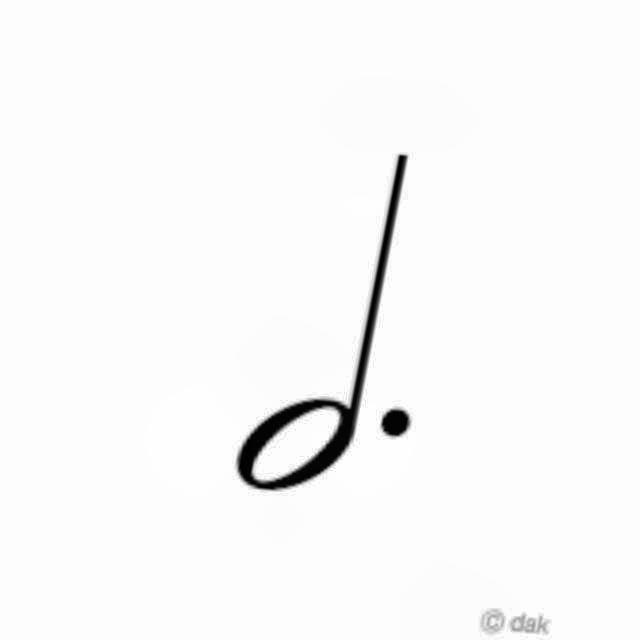Half-dot: (213, 144, 439, 506)
